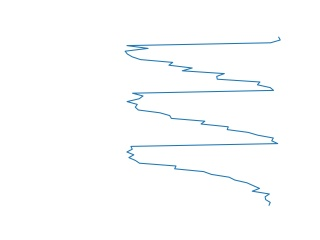distributaryMouthBar: (122, 34, 282, 210)
